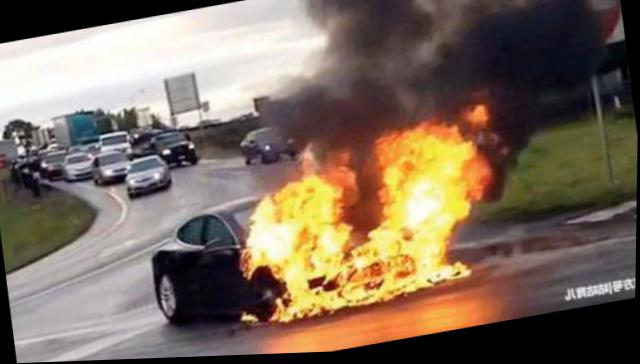fire: (219, 96, 524, 336)
